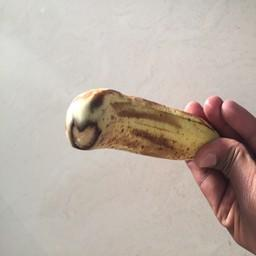Bad_banana: (66, 83, 223, 166)
